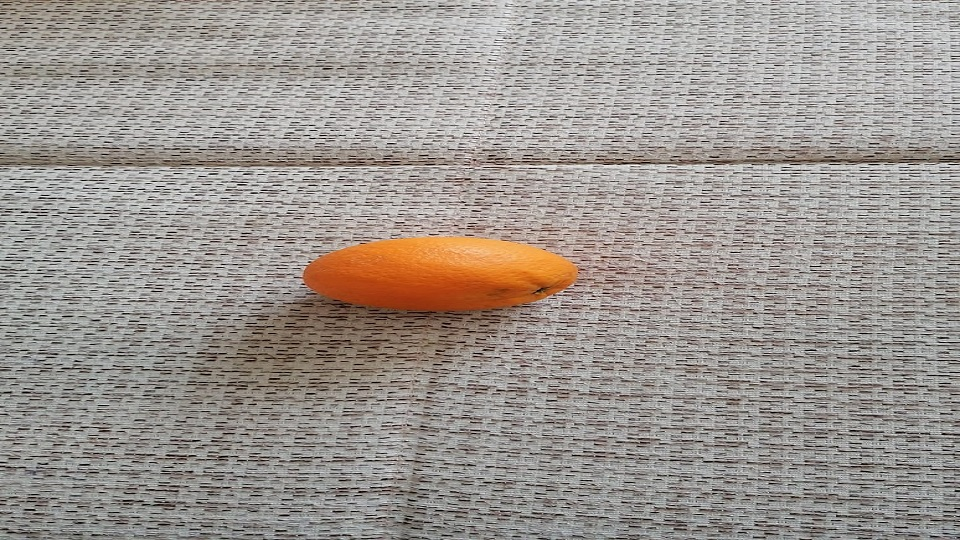portakal: (300, 234, 581, 316)
